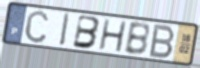B: (71, 13, 102, 50), (147, 23, 177, 60), (122, 22, 151, 57)
C: (23, 9, 50, 45)
H: (97, 18, 128, 54)
I: (59, 12, 72, 48)
